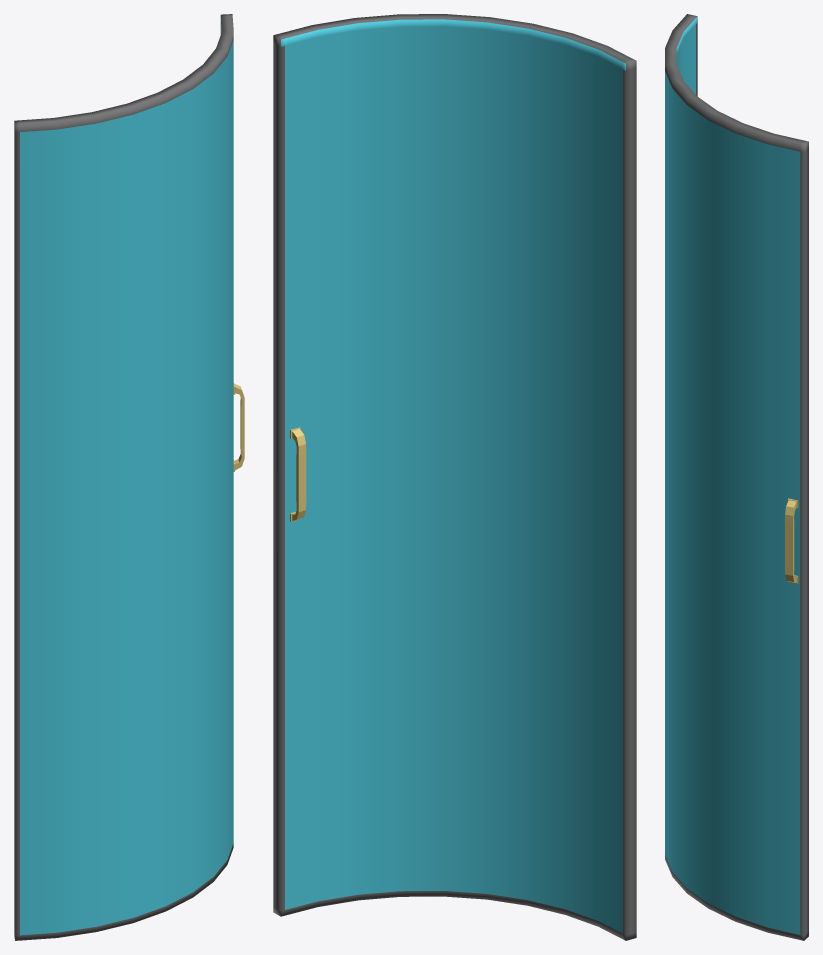
File: showerTubeDoor.fbx
The picture shows the model from 3 angles, left to right: view 1: azimuth 30°, elevation 25°; view 2: azimuth 150°, elevation 25°; view 3: azimuth 270°, elevation 25°; orthographic projection. The views are drawn at different scales.
Parts seen in each view (by area): view 1: showerthingiedoor; view 2: showerthingiedoor; view 3: showerthingiedoor.
Boxes of the visible parts, x1=… form: showerthingiedoor: x1=14, y1=14, x2=244, y2=940; showerthingiedoor: x1=273, y1=14, x2=636, y2=940; showerthingiedoor: x1=665, y1=14, x2=808, y2=940.
Bounding box in the file's own units: 68.96 × 190 × 31.12.
